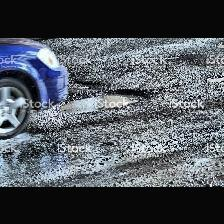pothole: (56, 88, 154, 114), (206, 75, 224, 81)
